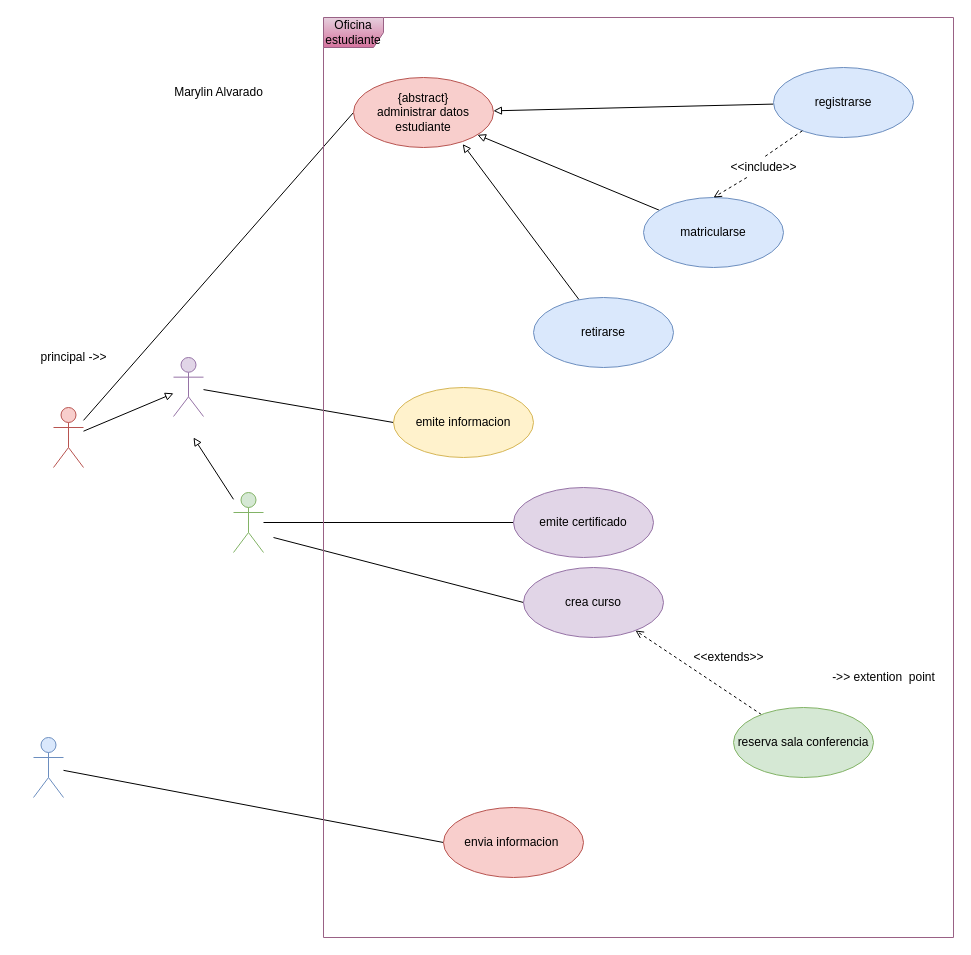
This 971x955 diagram has some shape labels left out. Here are the shapes that lost their labels. From the top down, the centre of each, then its label:
At (x=188, y=386): "Empleado".
At (x=68, y=437): "Empleado Servicio".
At (x=248, y=522): "Empleado administrador".
At (x=48, y=767): "Profesor".
